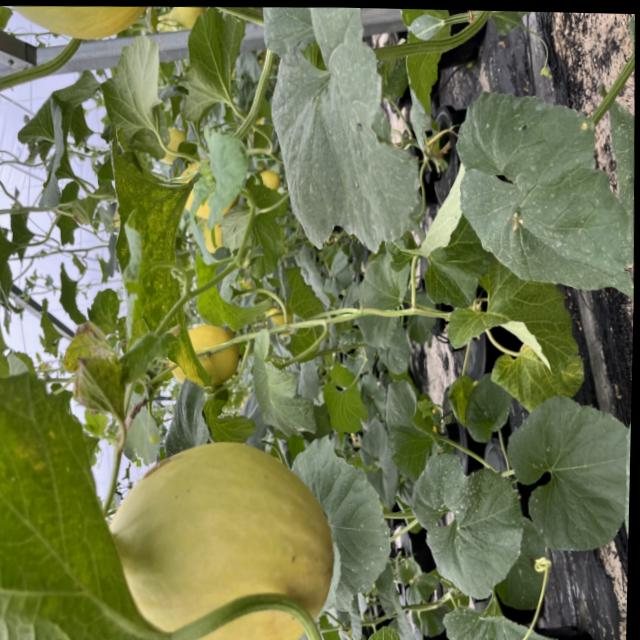downy mildew: (453, 91, 630, 293), (106, 146, 215, 379), (407, 454, 527, 606)
healthy: (96, 21, 169, 143), (177, 8, 247, 134)
powdery mildew: (504, 391, 629, 557), (298, 424, 395, 625), (242, 333, 318, 444)
